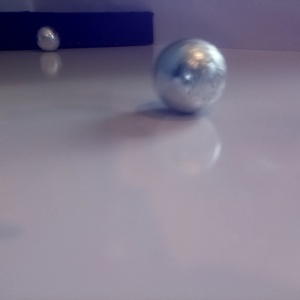zone: (1, 11, 154, 50)
